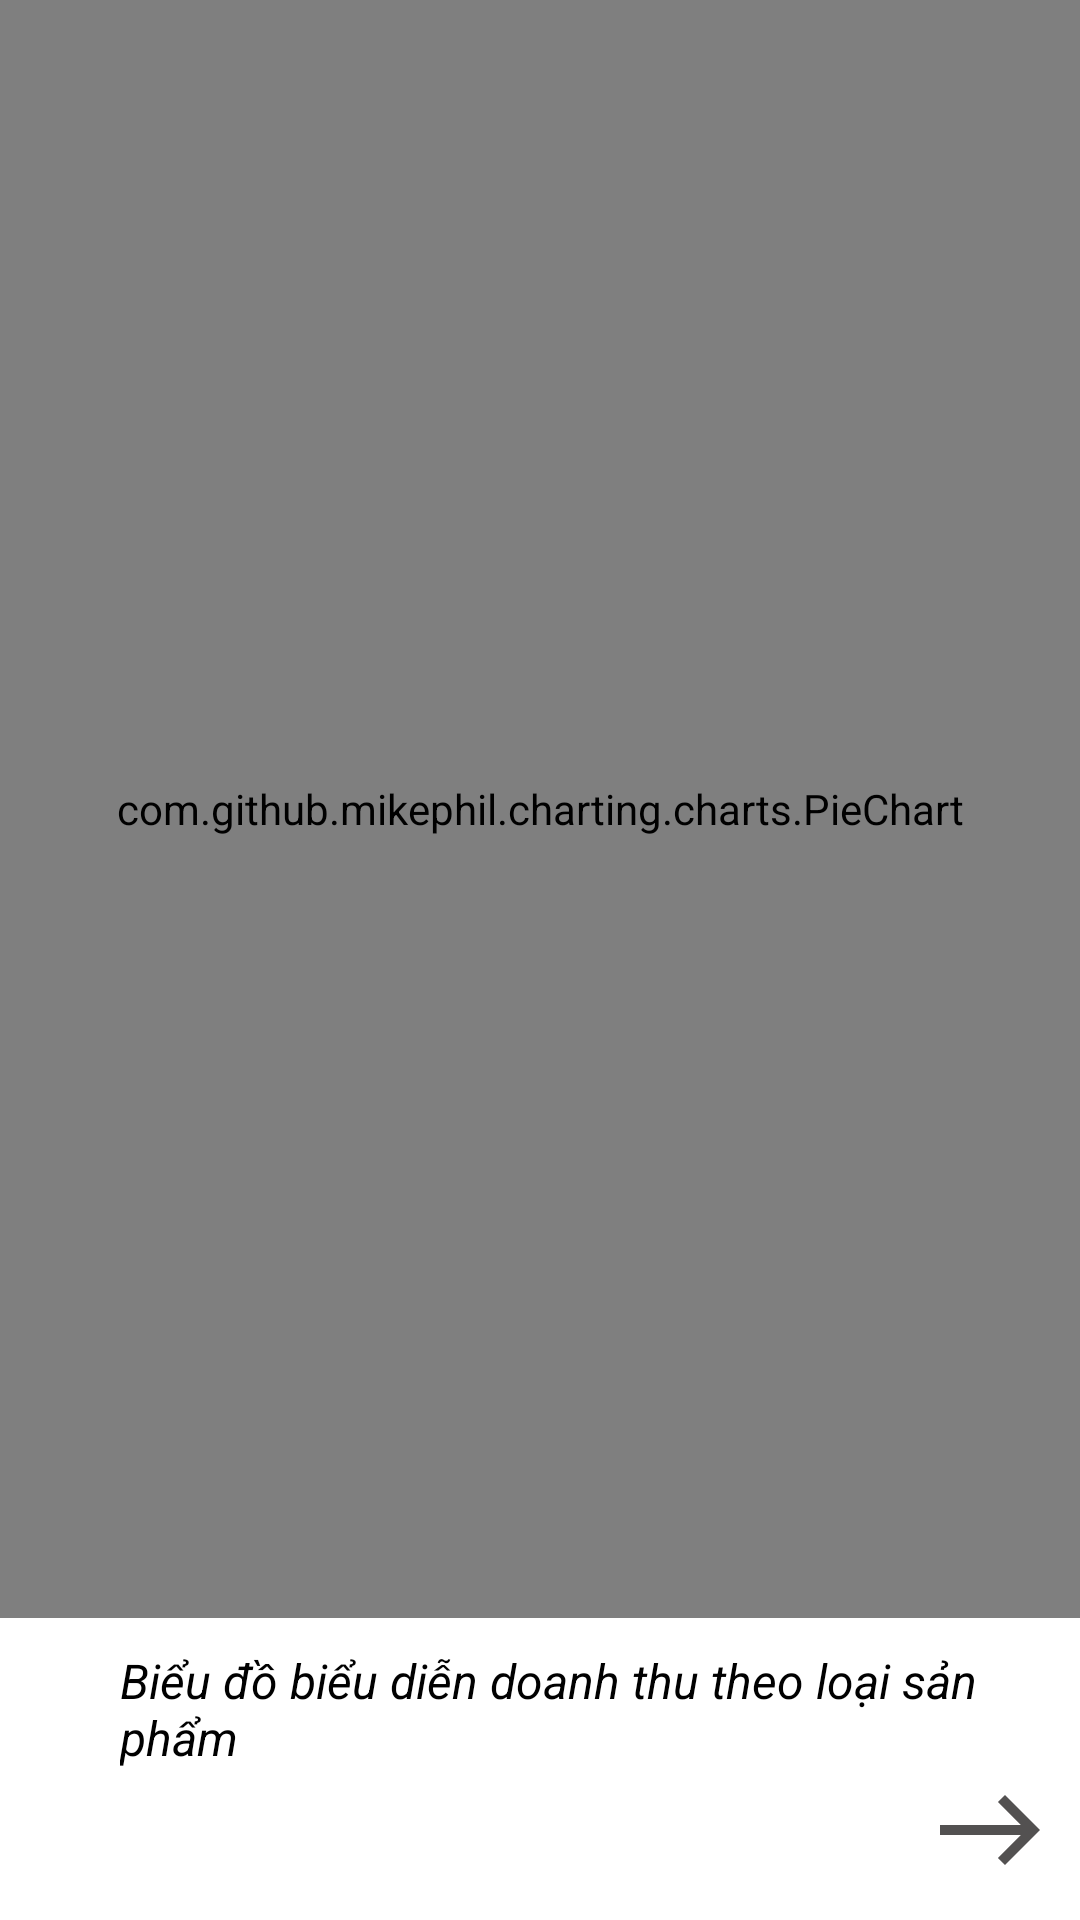

Icons on this 1080w x 1920h Android screen, each with its box as Rect(x1, y1, x2, y2):
toright: Rect(940, 1795, 1040, 1865)
